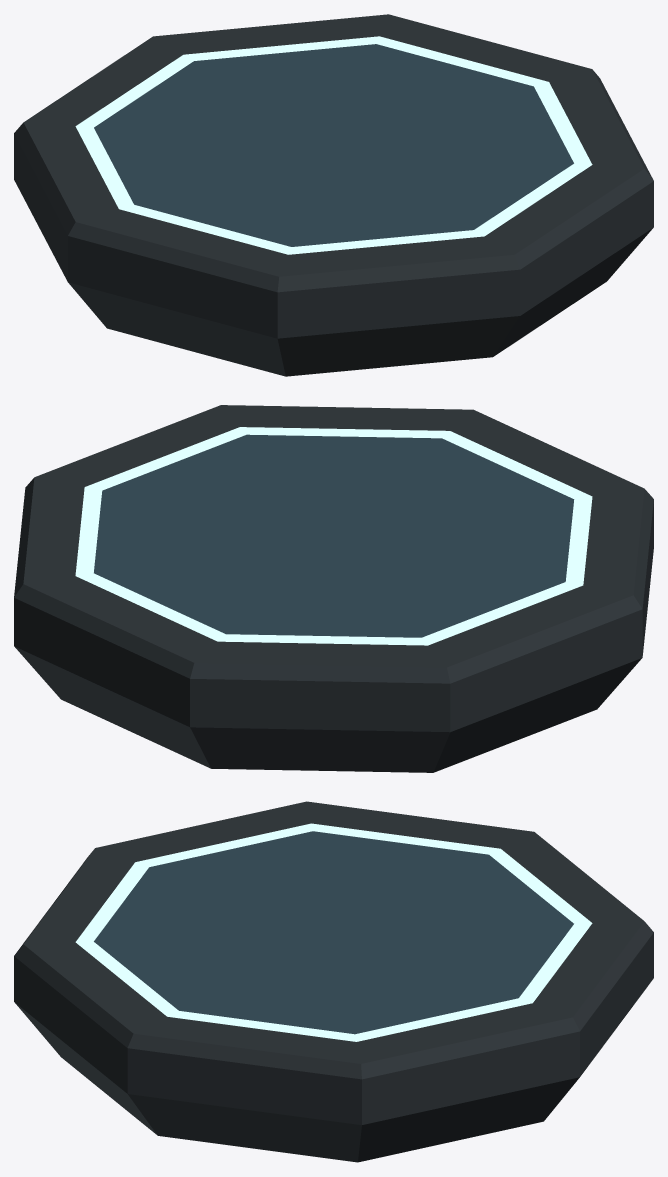
File: pm-aero-station-mini-platform.glb
3 renders of one model, top to bottom at view 1: azimuth 30°, elevation 25°; view 2: azimuth 150°, elevation 25°; view 3: azimuth 270°, elevation 25°, orthographic. The views are drawn at different scales.
Visible parts, largest first — view 1: Aero_Station_Mini_Platform_Art; view 2: Aero_Station_Mini_Platform_Art; view 3: Aero_Station_Mini_Platform_Art.
Part boxes in pixels (box(x1,y1,x2,y2)): Aero_Station_Mini_Platform_Art: box(14, 14, 653, 376); Aero_Station_Mini_Platform_Art: box(14, 405, 653, 772); Aero_Station_Mini_Platform_Art: box(14, 801, 653, 1162).
Bounding box in the file's own units: 2.01 × 0.3962 × 2.01.
Materials: 3 (1 with a texture image).
